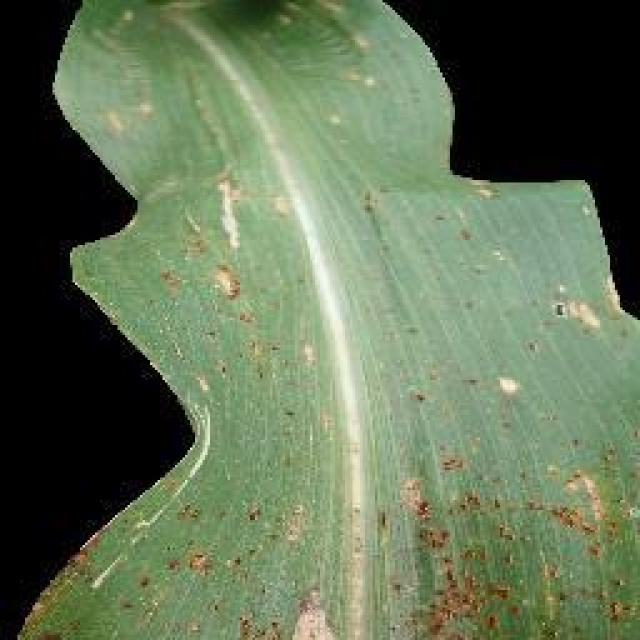Corn Common Rust: (141, 211, 640, 640)
